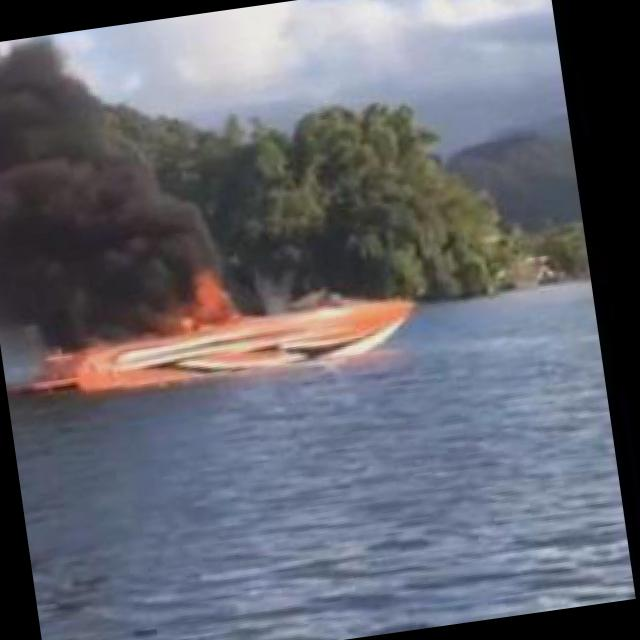fire: (169, 264, 245, 340)
smoke: (0, 17, 218, 349)
